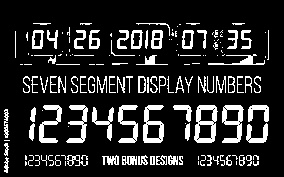eight: (195, 105, 216, 144)
five: (118, 105, 138, 144)
four: (92, 107, 113, 142)
nine: (222, 105, 243, 143)
one: (29, 107, 36, 141)
seven: (172, 104, 191, 141)
six: (143, 105, 164, 144)
three: (67, 105, 88, 143)
two: (39, 105, 62, 144)
zero: (246, 105, 269, 145)
